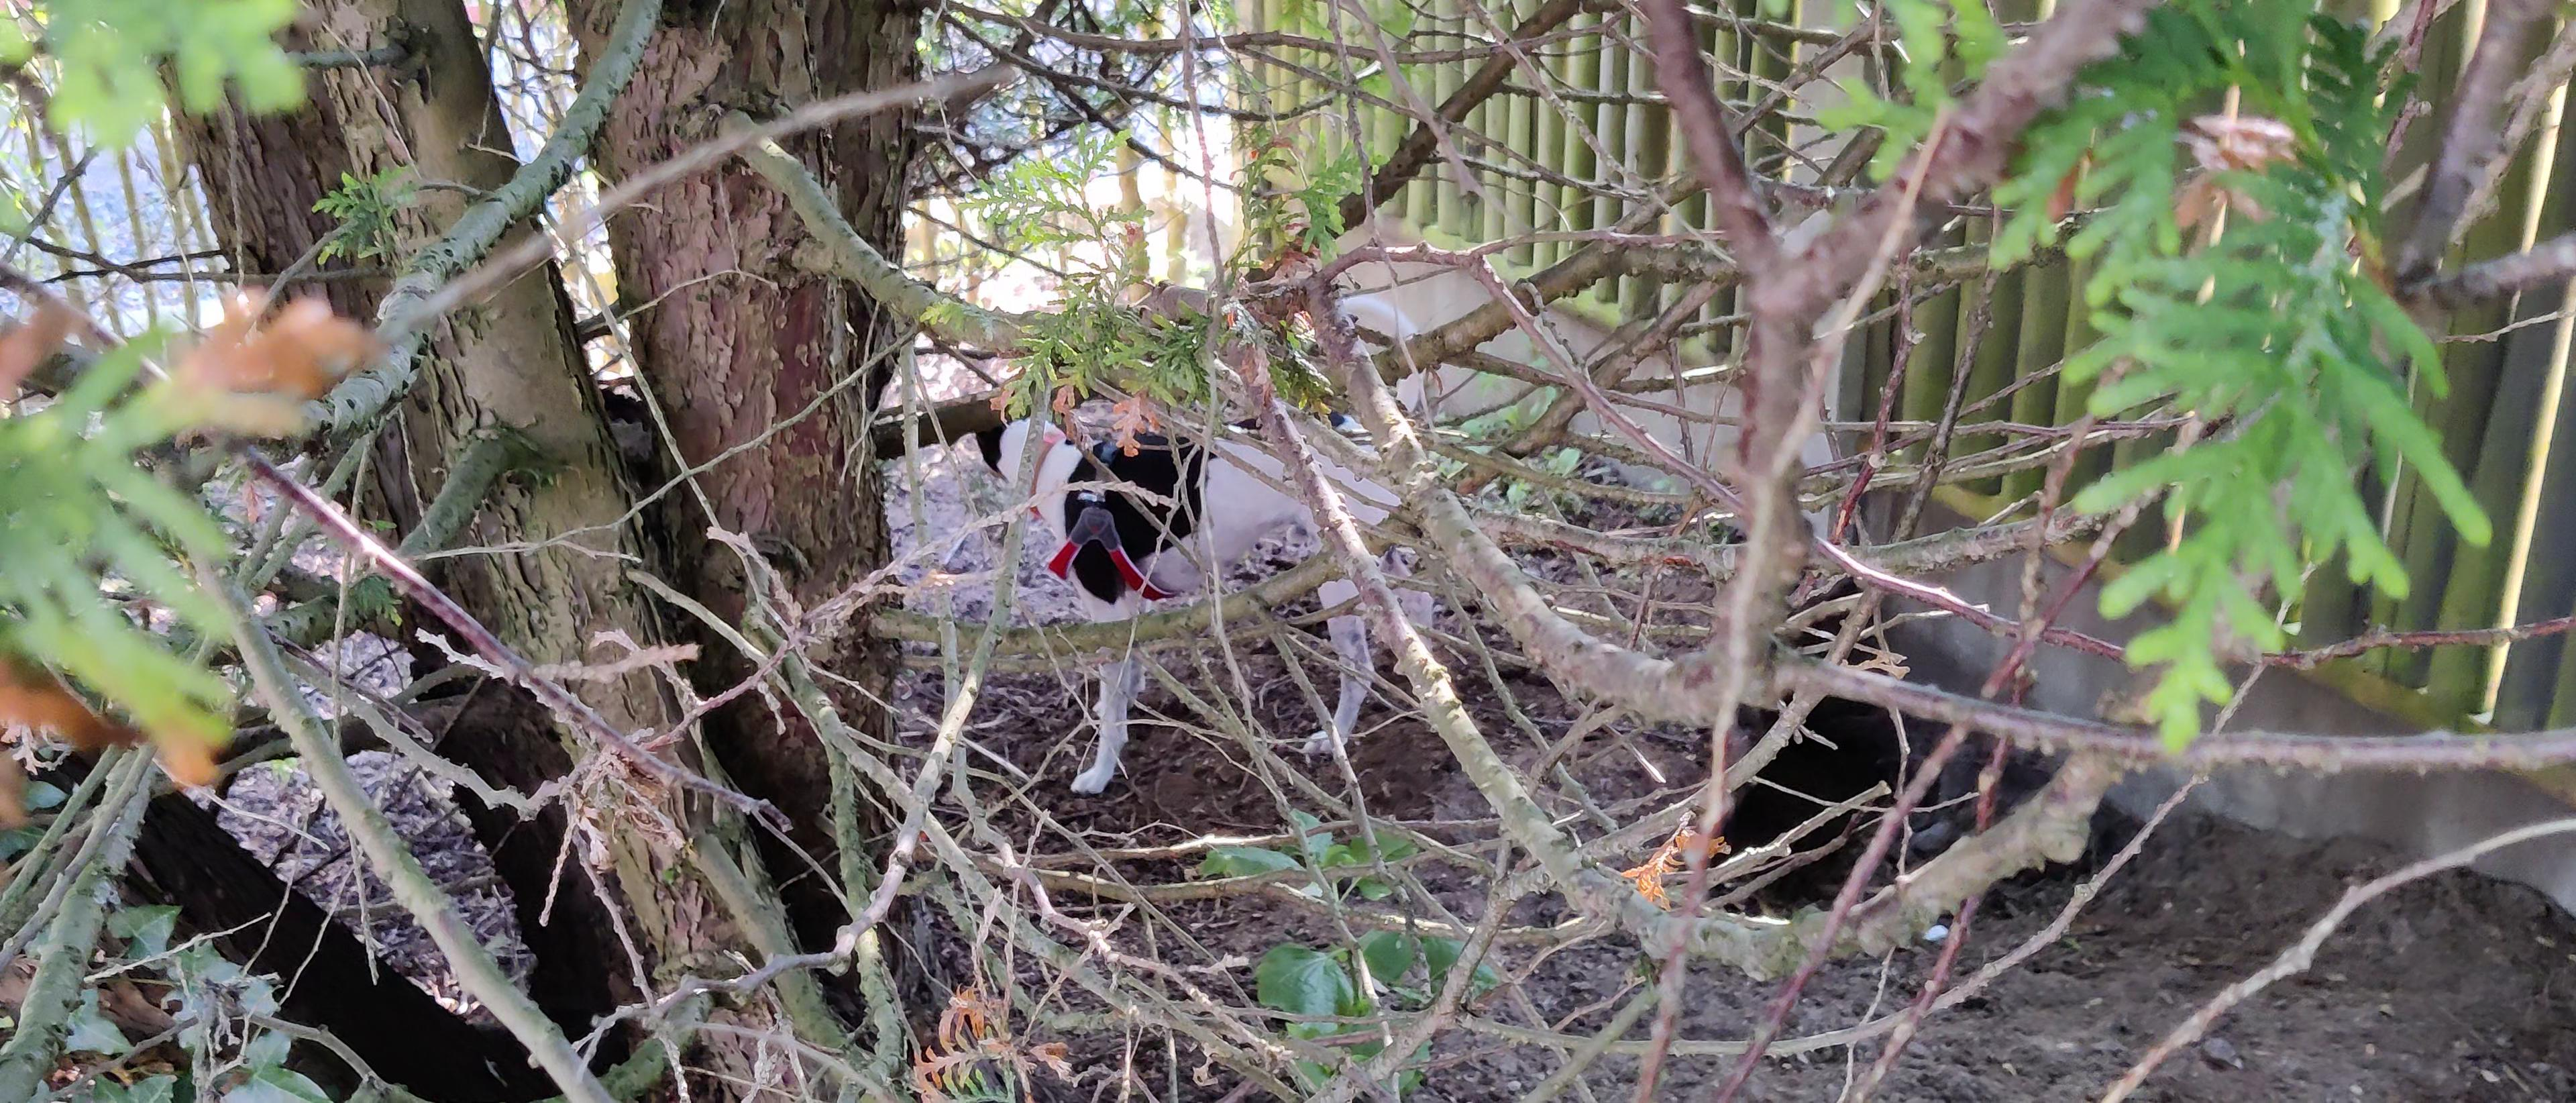Dog: (927, 260, 1456, 819)
